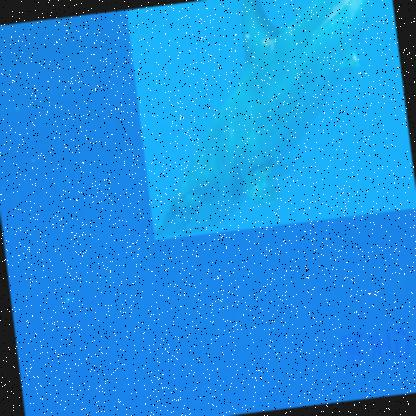mako-shark: (124, 0, 415, 242)
